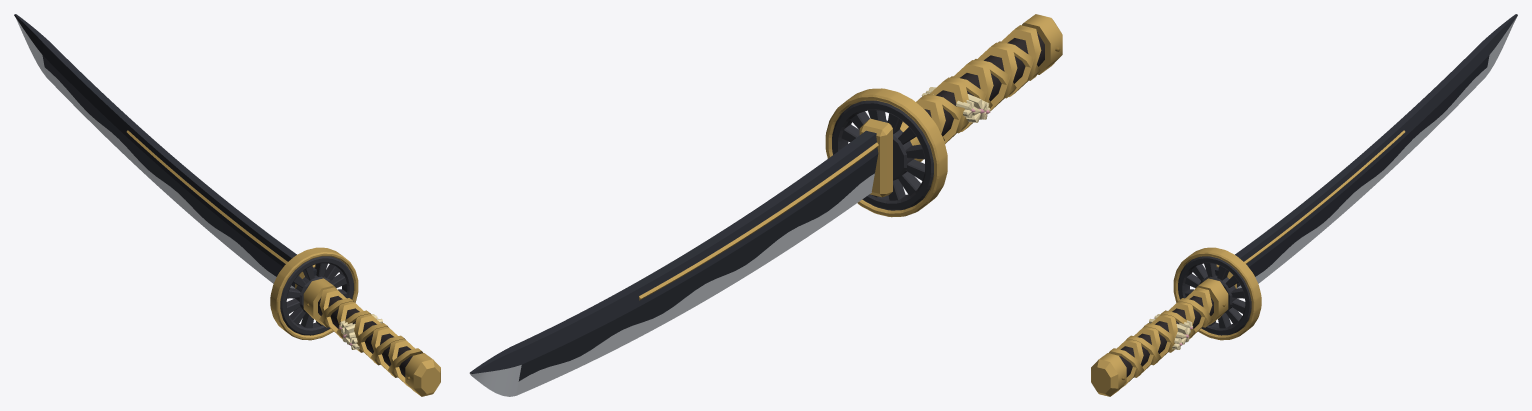
File: w_katana@katana_jp_a.glb
3 renders of one model, left to right at view 1: azimuth 30°, elevation 25°; view 2: azimuth 150°, elevation 25°; view 3: azimuth 330°, elevation 25°, orthographic. The views are drawn at different scales.
Parts seen in each view (by area): view 1: kat_blade_wzB, kat_tsuka_wzN, kat_guard_wzN.001, kat_blade_wzN, kat_trims_wzN, kat_guard_wzN, kat_tsuka_wzA, kat_blade_wzN.001, kat_tsuka_wzN.001; view 2: kat_blade_wzB, kat_blade_wzN, kat_guard_wzN.001, kat_tsuka_wzN, kat_guard_wzN, kat_tsuka_wzA, kat_blade_wzN.001, kat_trims_wzN, kat_tsuka_wzN.001; view 3: kat_blade_wzB, kat_tsuka_wzN, kat_guard_wzN.001, kat_blade_wzN, kat_trims_wzN, kat_guard_wzN, kat_tsuka_wzA, kat_blade_wzN.001, kat_tsuka_wzN.001.
Boxes of the visible parts, left/top/right/bottom form: kat_blade_wzB: left=14, top=14, right=316, bottom=287; kat_tsuka_wzN: left=319, top=287, right=423, bottom=387; kat_guard_wzN.001: left=280, top=256, right=353, bottom=335; kat_blade_wzN: left=16, top=18, right=294, bottom=298; kat_trims_wzN: left=303, top=278, right=440, bottom=396; kat_guard_wzN: left=270, top=247, right=358, bottom=340; kat_tsuka_wzA: left=318, top=296, right=412, bottom=377; kat_blade_wzN.001: left=126, top=130, right=287, bottom=263; kat_tsuka_wzN.001: left=339, top=314, right=382, bottom=349; kat_blade_wzB: left=470, top=119, right=887, bottom=381; kat_blade_wzN: left=470, top=173, right=874, bottom=396; kat_guard_wzN.001: left=832, top=100, right=933, bottom=210; kat_tsuka_wzN: left=916, top=25, right=1041, bottom=161; kat_guard_wzN: left=825, top=88, right=947, bottom=217; kat_tsuka_wzA: left=924, top=32, right=1044, bottom=136; kat_blade_wzN.001: left=639, top=142, right=878, bottom=300; kat_trims_wzN: left=900, top=14, right=1062, bottom=161; kat_tsuka_wzN.001: left=921, top=87, right=990, bottom=122; kat_blade_wzB: left=1215, top=14, right=1517, bottom=287; kat_tsuka_wzN: left=1108, top=287, right=1212, bottom=387; kat_guard_wzN.001: left=1178, top=256, right=1251, bottom=335; kat_blade_wzN: left=1237, top=16, right=1517, bottom=298; kat_trims_wzN: left=1091, top=278, right=1228, bottom=396; kat_guard_wzN: left=1173, top=247, right=1261, bottom=340; kat_tsuka_wzA: left=1119, top=296, right=1213, bottom=377; kat_blade_wzN.001: left=1244, top=130, right=1405, bottom=263; kat_tsuka_wzN.001: left=1149, top=314, right=1192, bottom=349.
Bounding box in the file's own units: 0.1101 × 0.133 × 0.9677.
